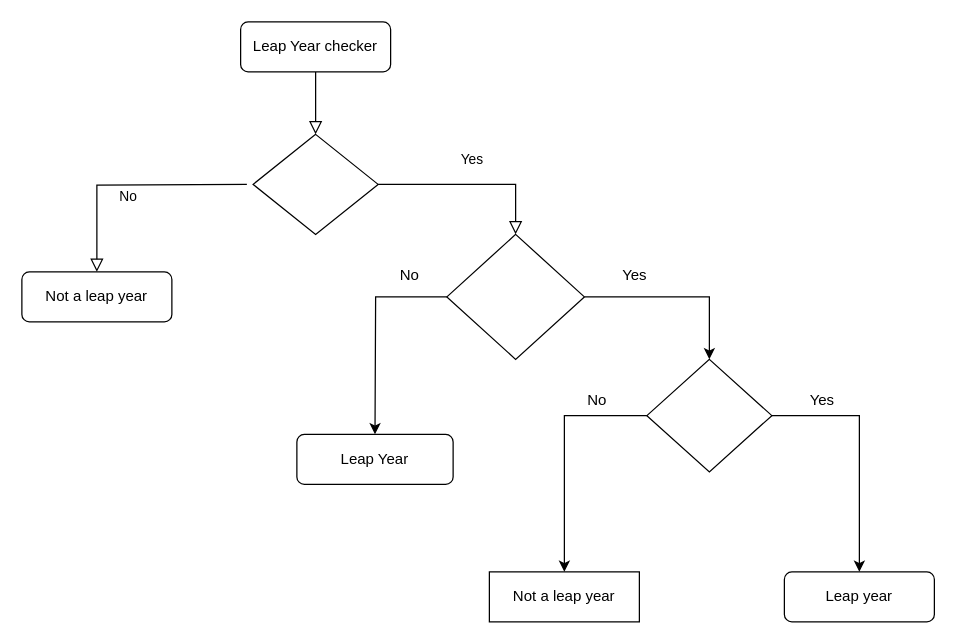
This 956x644 diagram has some shape labels left out. The shapes that lost their labels are listed below. From the top down, each one's centre as x and y in pixels, then its label:
(x=315, y=183): is the year divisible by 4
(x=515, y=296): Is the year divisible by 100?
(x=709, y=415): Is the year divisible by 400?
